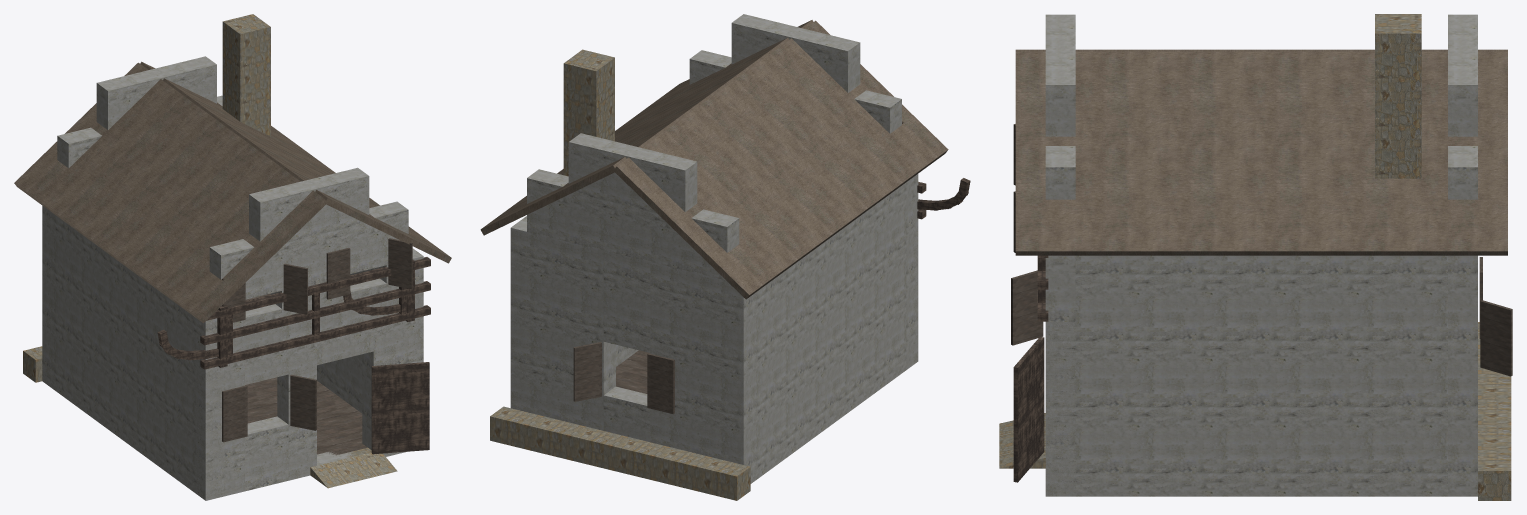
File: prop_hk_house_h.glb
3 renders of one model, left to right at view 1: azimuth 30°, elevation 25°; view 2: azimuth 150°, elevation 25°; view 3: azimuth 270°, elevation 25°, orthographic. The views are drawn at different scales.
Parts seen in each view (by area): view 1: building_hk_rowhouse_h; view 2: building_hk_rowhouse_h; view 3: building_hk_rowhouse_h.
Boxes of the visible parts, <box> form: building_hk_rowhouse_h: <box>14,14,451,500</box>; building_hk_rowhouse_h: <box>480,14,970,500</box>; building_hk_rowhouse_h: <box>999,14,1512,500</box>.
Bounding box in the file's own units: 6.47 × 7.38 × 7.72.
5 materials, 5 textured.
